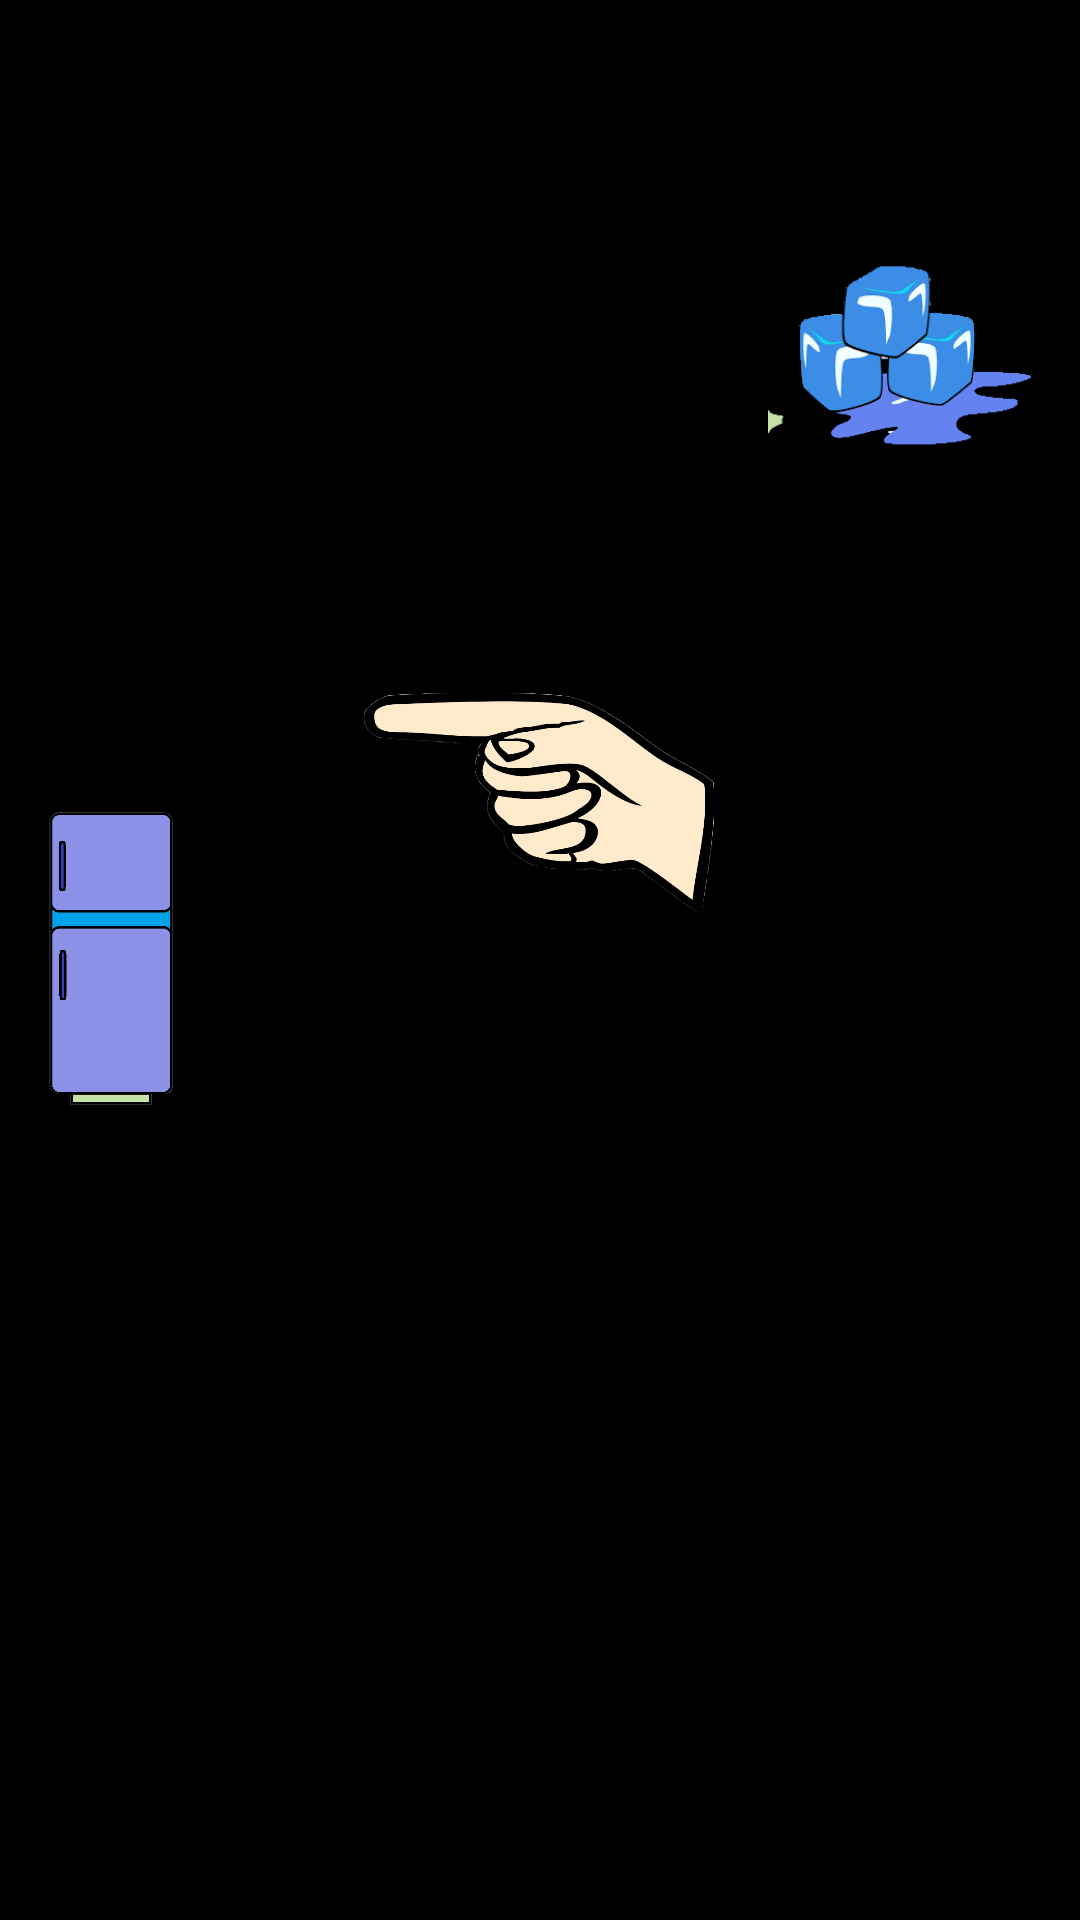

Screen size 1080px×1920px. Icon name, then its center in pixels as [x,y]:
fridge: [111,958]
ice cubes: [899,355]
